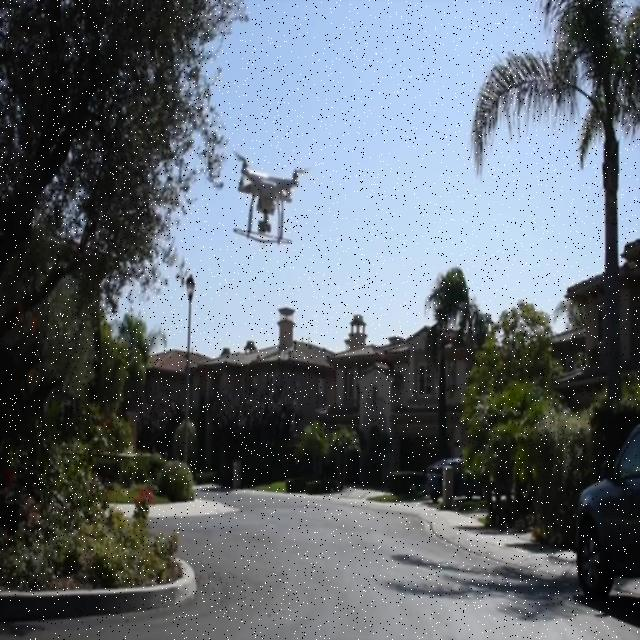UAV: (232, 150, 312, 246)
